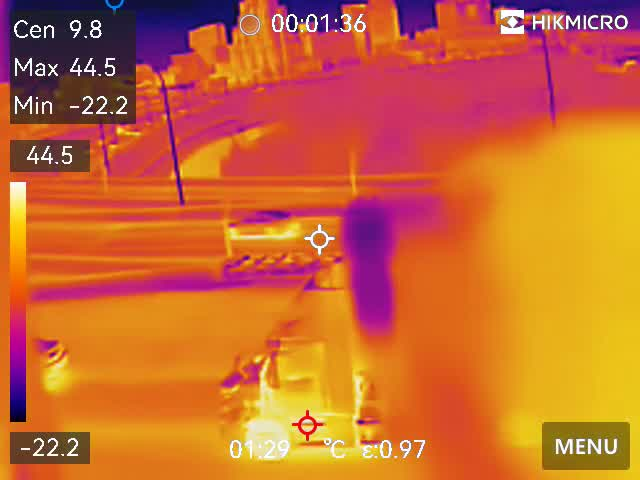heavyTruck: (190, 260, 375, 455)
smallCar: (223, 211, 302, 241)
